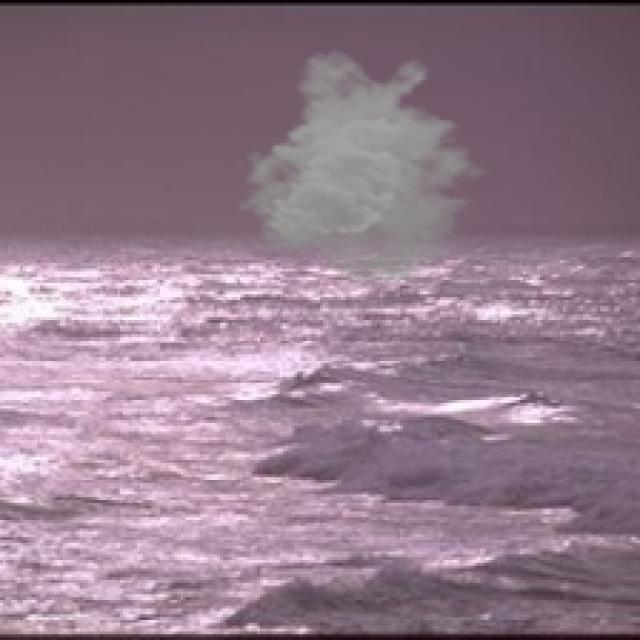smoke: (234, 49, 497, 288)
